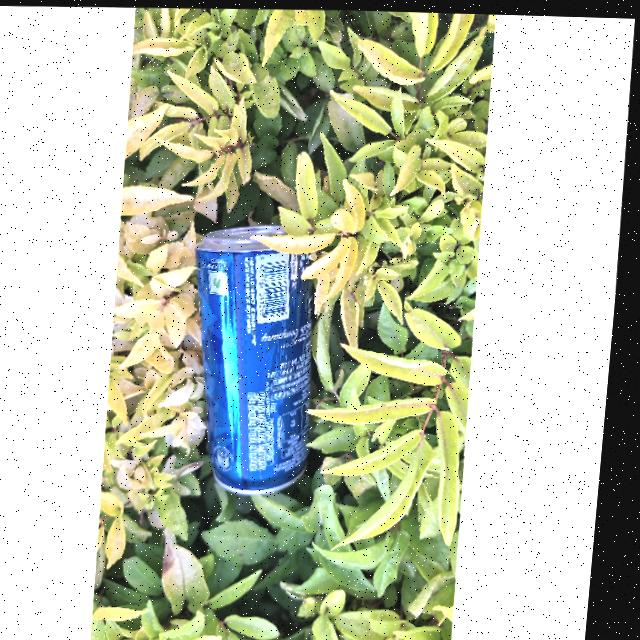Thums Up: (179, 204, 341, 510)
